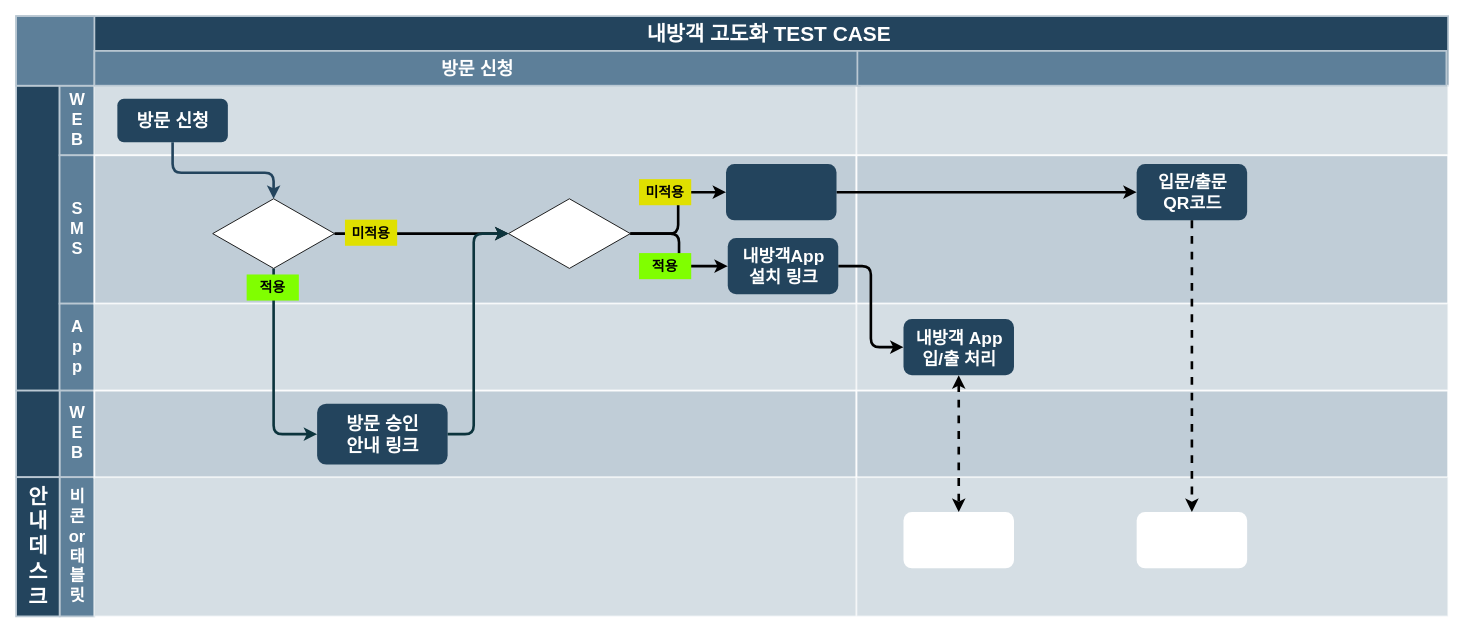
This 1463x632 diagram has some shape labels left out. Each missing label, with the centre of its shape:
"QR 스캐너" goes at pixel 1191 540.
"내 방 객" goes at pixel 37 237.
"담 당 자" goes at pixel 37 433.
"모바일 방문증 QR 링크" goes at pixel 781 192.
"방문 수속" goes at pixel 1151 68.
"보안 옵션" goes at pixel 569 233.
"비콘 신호 감지" goes at pixel 958 540.
"승인 옵션" goes at pixel 273 233.
